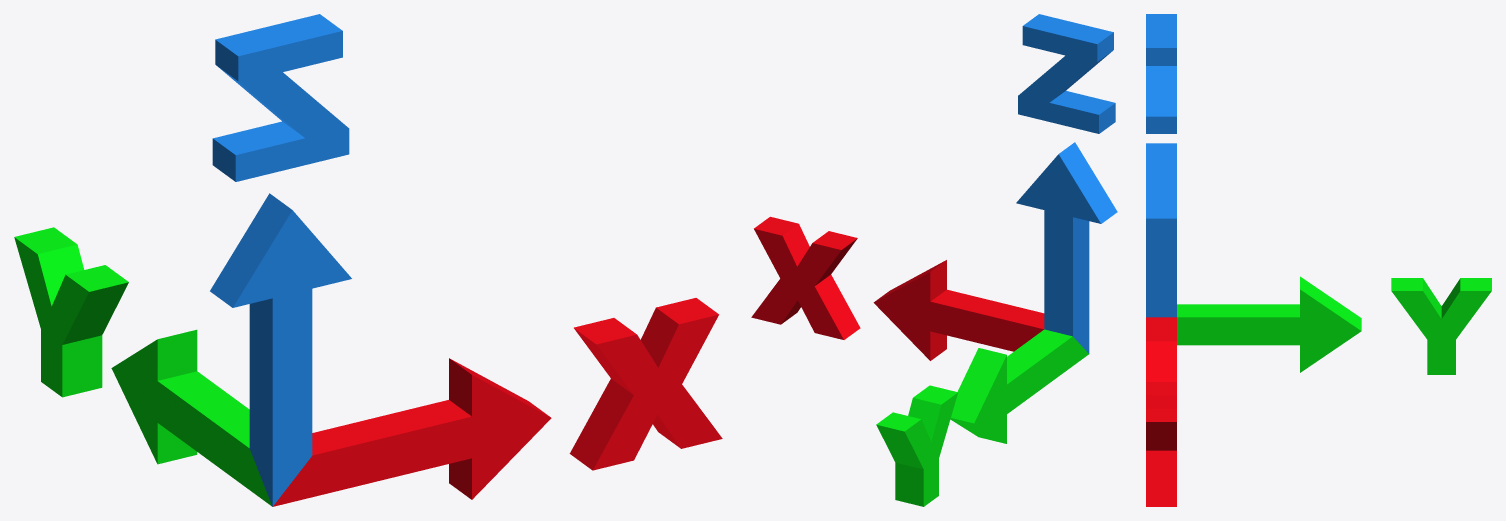
The model's file is axis.dae.
3 views of the same model, side by side, from view 1: azimuth 30°, elevation 25°; view 2: azimuth 150°, elevation 25°; view 3: azimuth 270°, elevation 25° (orthographic). The views are drawn at different scales.
Visible parts, largest first — view 1: SketchUp (×3), X_2, Z, Y; view 2: SketchUp (×3), X_2, Z, Y; view 3: SketchUp (×3), Y, X_2, Z.
Part boxes in pixels (bbox=[...]): SketchUp (×3): bbox=[111, 193, 551, 506]; X_2: bbox=[569, 298, 722, 470]; Z: bbox=[212, 14, 349, 181]; Y: bbox=[14, 227, 128, 397]; SketchUp (×3): bbox=[873, 142, 1117, 443]; X_2: bbox=[751, 216, 860, 339]; Z: bbox=[1018, 14, 1115, 133]; Y: bbox=[876, 385, 957, 506]; SketchUp (×3): bbox=[1146, 143, 1361, 381]; Y: bbox=[1391, 278, 1491, 374]; X_2: bbox=[1146, 382, 1176, 506]; Z: bbox=[1146, 14, 1176, 133].
Size of the model in its own units: 484 by 442 by 475.
